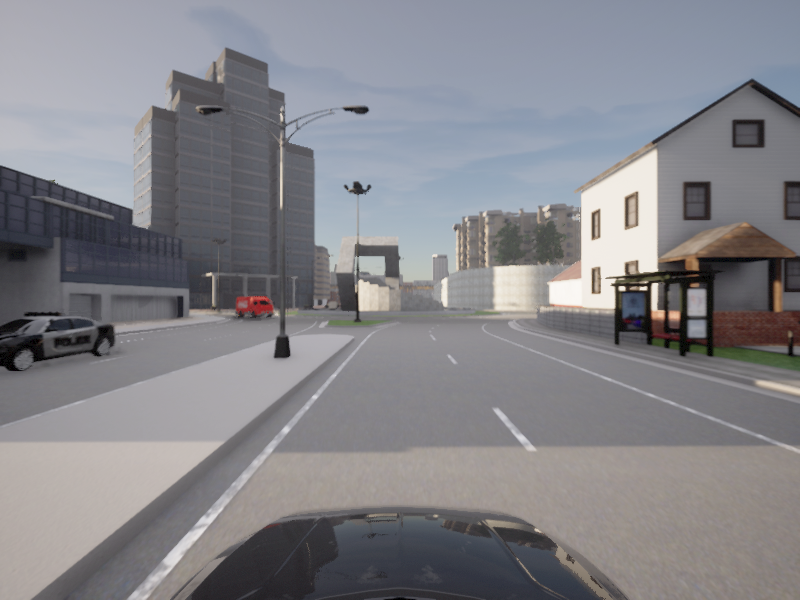vehicle: (0, 309, 124, 379), (233, 296, 277, 319)
